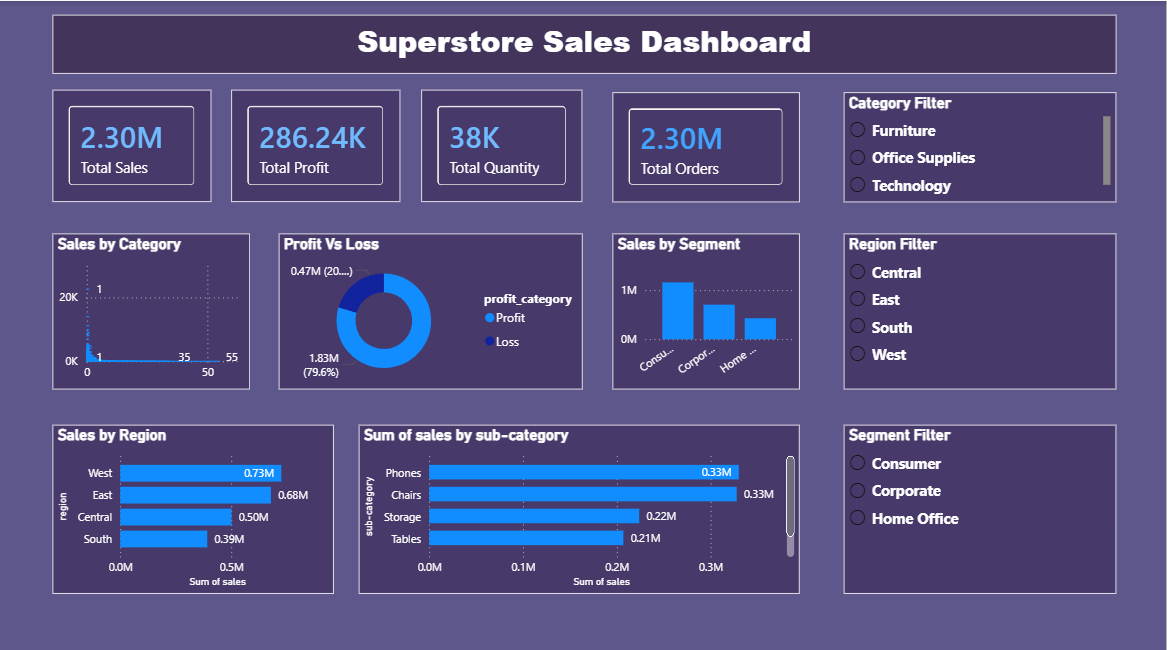

This screenshot's page, from the dashboard's own definition file:
{"tool":"powerbi","page":{"name":"Page 1","canvas":[1280,720],"ordinal":0},"visuals":[{"type":"textbox","box":[57.6,15.1,1167.8,64.5],"z":0},{"type":"cardVisual","title":"Total Sales","fields":{"Data":["Sum(cleaned_superstore.sales)"]},"box":[57.6,97.4,174.3,123.5],"z":1000},{"type":"cardVisual","title":"Total Profit","fields":{"Data":["Sum(cleaned_superstore.profit)"]},"box":[253.9,97.4,185.2,123.5],"z":2000},{"type":"cardVisual","title":"Total Quantity","fields":{"Data":["Sum(cleaned_superstore.quantity)"]},"box":[462.4,97.4,177,123.5],"z":3000},{"type":"cardVisual","title":"Total Orders","fields":{"Data":["Sum(cleaned_superstore.sales)"]},"box":[672.4,100.2,205.8,120.8],"z":4000},{"type":"clusteredBarChart","title":"Sales by Category ","fields":{"Y":["CountNonNull(cleaned_superstore.category)"],"Category":["cleaned_superstore.sales"]},"box":[57.6,255.2,216.8,171.5],"z":5000},{"type":"donutChart","title":"Profit Vs Loss","fields":{"Category":["cleaned_superstore.profit_category"],"Y":["Sum(cleaned_superstore.sales)"]},"box":[306,255.2,333.4,171.5],"z":6000},{"type":"clusteredBarChart","title":"Sales by Region","fields":{"Category":["cleaned_superstore.region"],"Y":["Sum(cleaned_superstore.sales)"]},"box":[57.6,465.2,308.7,185.2],"z":7000},{"type":"clusteredColumnChart","title":"Sales by Segment","fields":{"Category":["cleaned_superstore.segment"],"Y":["Sum(cleaned_superstore.sales)"]},"box":[672.4,255.2,205.8,171.5],"z":8000},{"type":"clusteredBarChart","fields":{"Category":["cleaned_superstore.sub-category"],"Y":["Sum(cleaned_superstore.sales)"]},"box":[393.8,465.2,484.4,185.2],"z":9000},{"type":"listSlicer","title":"Category Filter","fields":{"Values":["cleaned_superstore.category"]},"box":[926.2,100.2,299.1,120.8],"z":10000},{"type":"listSlicer","title":"Region Filter","fields":{"Values":["cleaned_superstore.region"]},"box":[926.2,255.2,299.1,171.5],"z":11000},{"type":"listSlicer","title":"Segment Filter","fields":{"Values":["cleaned_superstore.segment"]},"box":[926.2,465.2,299.1,185.2],"z":12000}]}

Visuals, with their boxes in screenshot pixels (x1, y1, x2, y2), scaled from the page's 1280x720 canvas onto the 1167x650 screenshot:
textbox: left=53, top=14, right=1117, bottom=72
"Total Sales" cardVisual: left=53, top=88, right=211, bottom=199
"Total Profit" cardVisual: left=231, top=88, right=400, bottom=199
"Total Quantity" cardVisual: left=422, top=88, right=583, bottom=199
"Total Orders" cardVisual: left=613, top=90, right=801, bottom=200
"Sales by Category " clusteredBarChart: left=53, top=230, right=250, bottom=385
"Profit Vs Loss" donutChart: left=279, top=230, right=583, bottom=385
"Sales by Region" clusteredBarChart: left=53, top=420, right=334, bottom=587
"Sales by Segment" clusteredColumnChart: left=613, top=230, right=801, bottom=385
clusteredBarChart - cleaned_superstore.sub-category x Sum(cleaned_superstore.sales): left=359, top=420, right=801, bottom=587
"Category Filter" listSlicer: left=844, top=90, right=1117, bottom=200
"Region Filter" listSlicer: left=844, top=230, right=1117, bottom=385
"Segment Filter" listSlicer: left=844, top=420, right=1117, bottom=587
